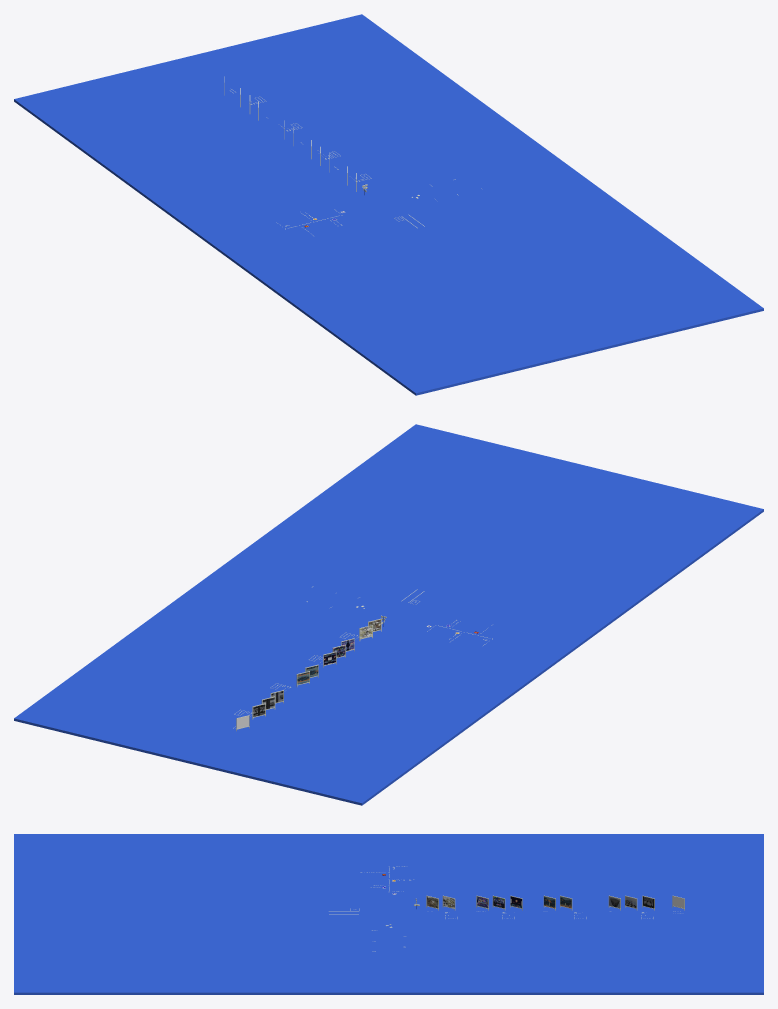
Rendered from ground.glb.
3 views of the same model, one above another, from view 1: azimuth 30°, elevation 25°; view 2: azimuth 150°, elevation 25°; view 3: azimuth 270°, elevation 25° (orthographic). The views are drawn at different scales.
Parts seen in each view (by area): view 1: Ground; view 2: Ground; view 3: Ground.
Boxes of the visible parts, left/top/right/bottom form: Ground: left=14, top=14, right=763, bottom=395; Ground: left=14, top=424, right=763, bottom=805; Ground: left=14, top=834, right=763, bottom=994.
Size of the model in its own units: 150 by 6.62 by 300.
85 materials, 10 textured.
